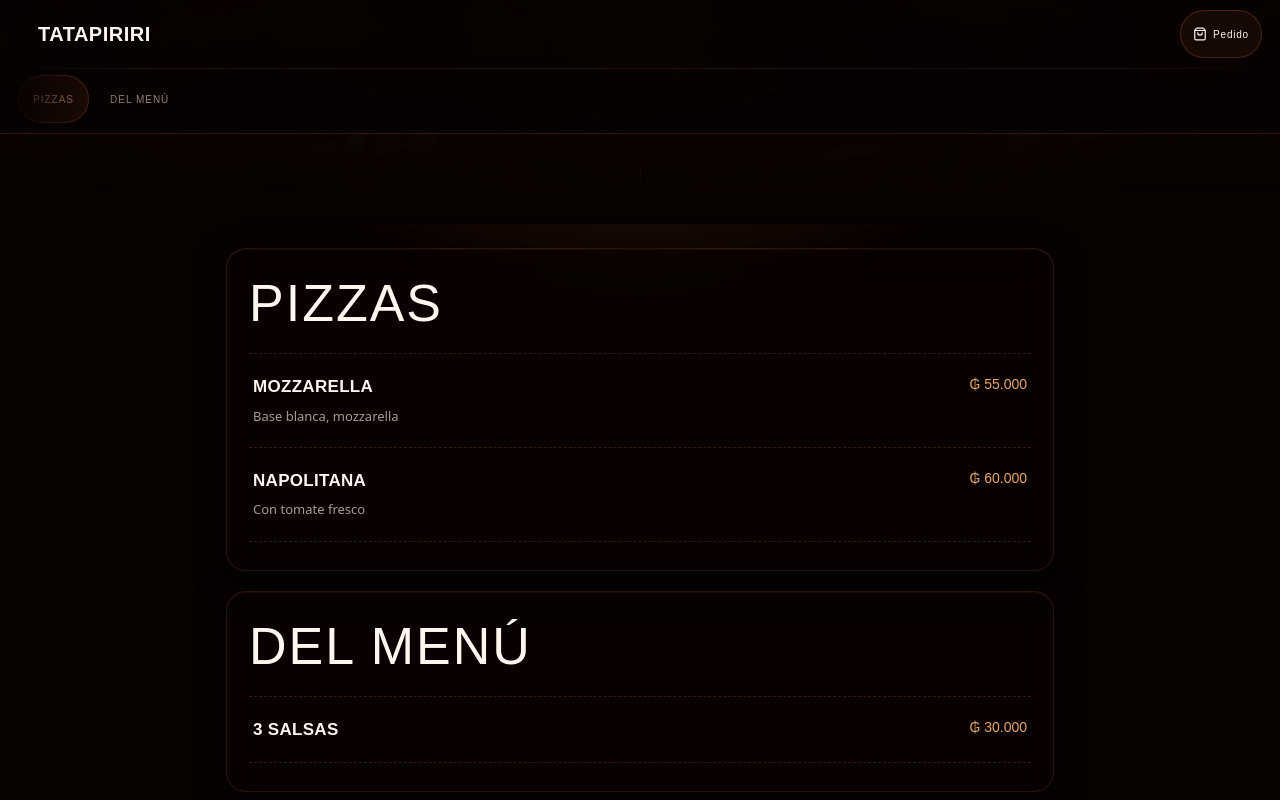
Test: GastronomyTemplate — ticket-grid catalog › opens the product detail sheet when tapping a product
The width and height of the screenshot is (1280, 800).
(page scrolled)
Note: Tap the first product ticket
Click the button "Mozzarella Base blanca, mozzarella ₲ 55.000" at (313, 386), box [249,353,1031,448]
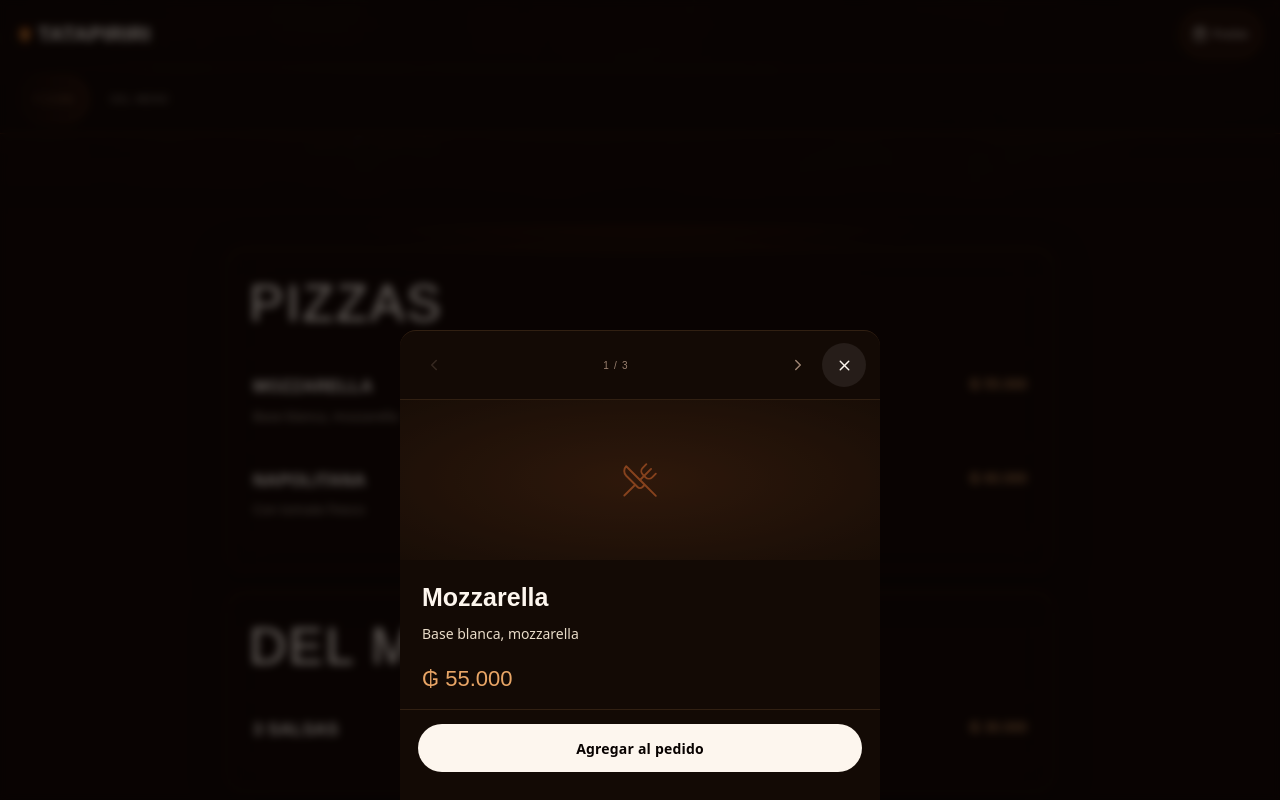
Check: the heading "Mozzarella" is shown, box [422,583,548,611]
Check: the text "Base blanca, mozzarella" is shown, box [422,624,579,643]
